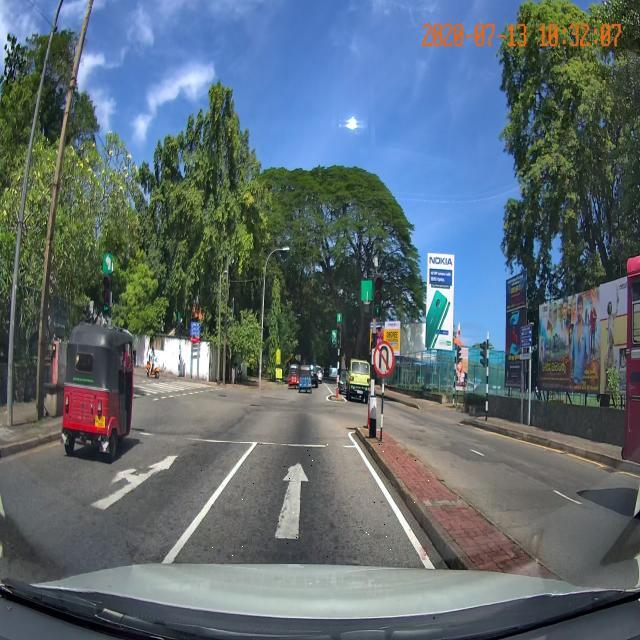forward: (165, 443, 432, 559)
